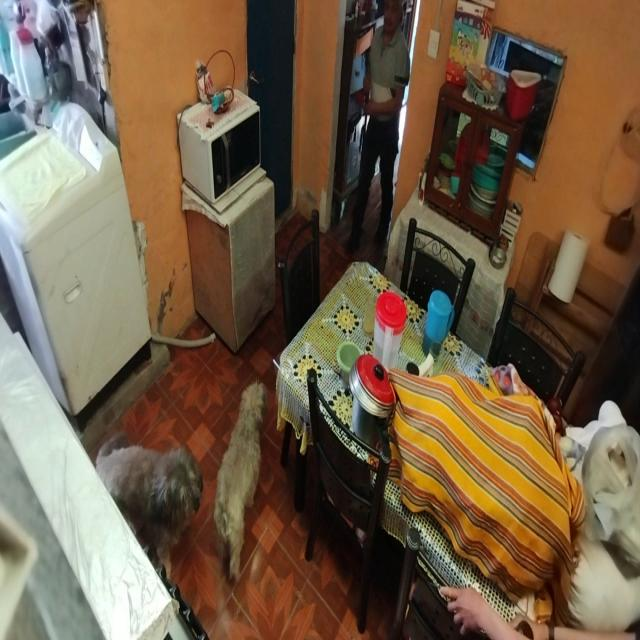adult: (342, 1, 411, 252)
